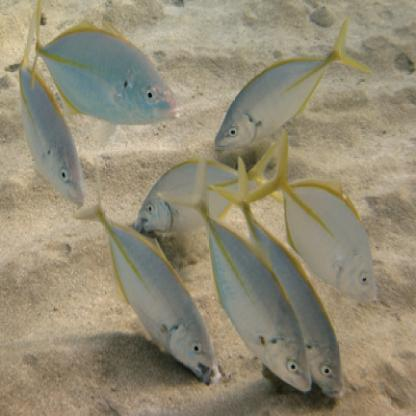Bio: (162, 164, 318, 392), (212, 164, 352, 406), (70, 160, 216, 386), (239, 127, 381, 304), (210, 11, 379, 151), (24, 0, 180, 126), (4, 25, 86, 209)
